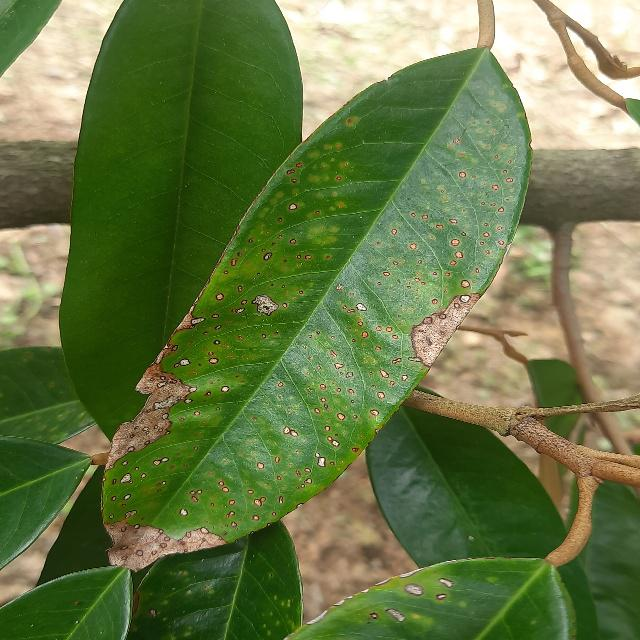Leaf Spot: (79, 37, 542, 575)
